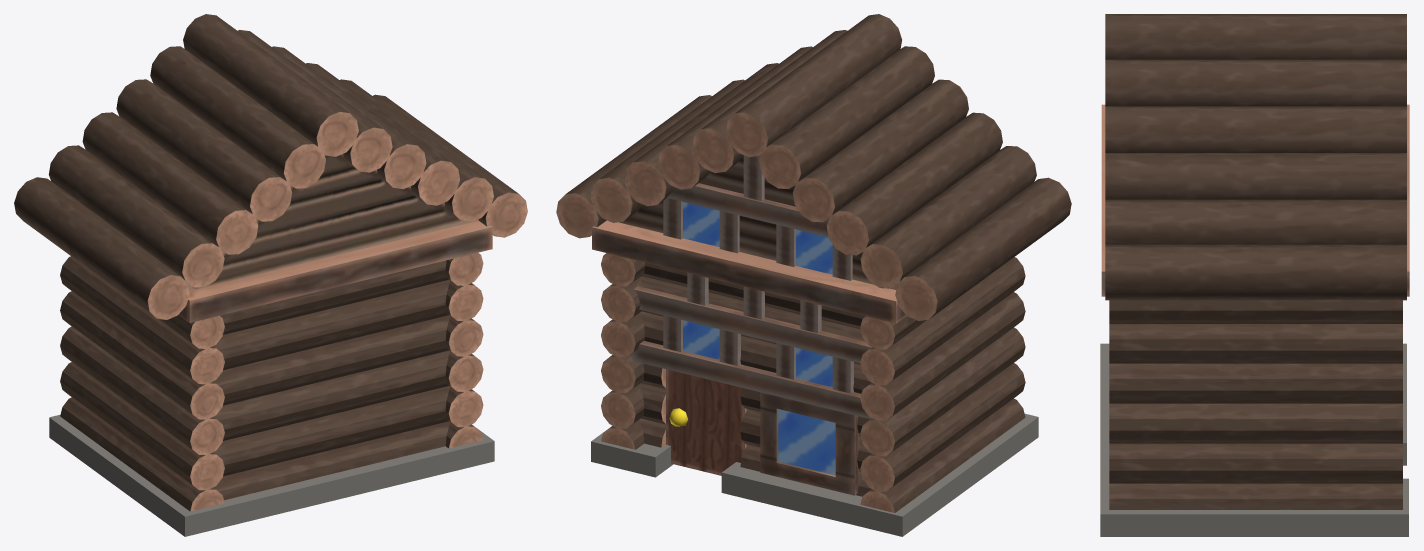
Rendered from cabin.glb.
3 views of the same model, side by side, from view 1: azimuth 30°, elevation 25°; view 2: azimuth 150°, elevation 25°; view 3: azimuth 270°, elevation 25° (orthographic). The views are drawn at different scales.
Parts seen in each view (by area): view 1: Wall Left.005; view 2: Wall Left.005; view 3: Wall Left.005.
Boxes of the visible parts, box(x1,y1,x2,y2) form: Wall Left.005: box(14, 14, 527, 536); Wall Left.005: box(556, 14, 1071, 536); Wall Left.005: box(1100, 14, 1409, 536).
Size of the model in its own units: 5.9 by 5.71 by 3.68.
7 materials, 6 textured.
